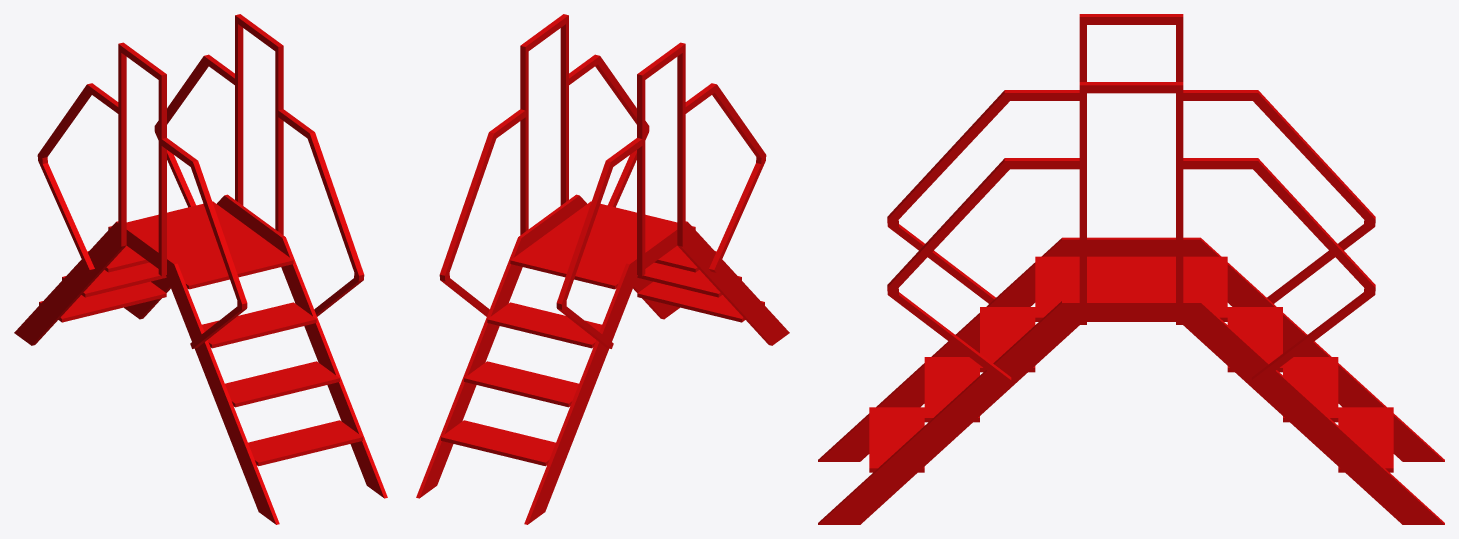
The model's file is Stairs.fbx.
The picture shows the model from 3 angles, left to right: view 1: azimuth 30°, elevation 25°; view 2: azimuth 150°, elevation 25°; view 3: azimuth 270°, elevation 25°; orthographic projection. The views are drawn at different scales.
Parts seen in each view (by area): view 1: Stairs; view 2: Stairs; view 3: Stairs.
Boxes of the visible parts, x1,y1,x2,y2 form: Stairs: (14, 14, 387, 524); Stairs: (416, 14, 789, 524); Stairs: (818, 14, 1444, 524).
Size of the model in its own units: 70 by 203 by 261.
